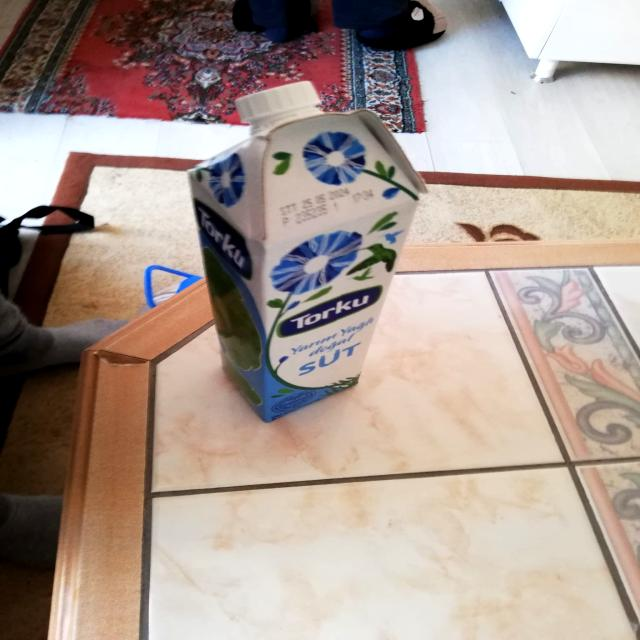milk: (180, 72, 430, 427)
